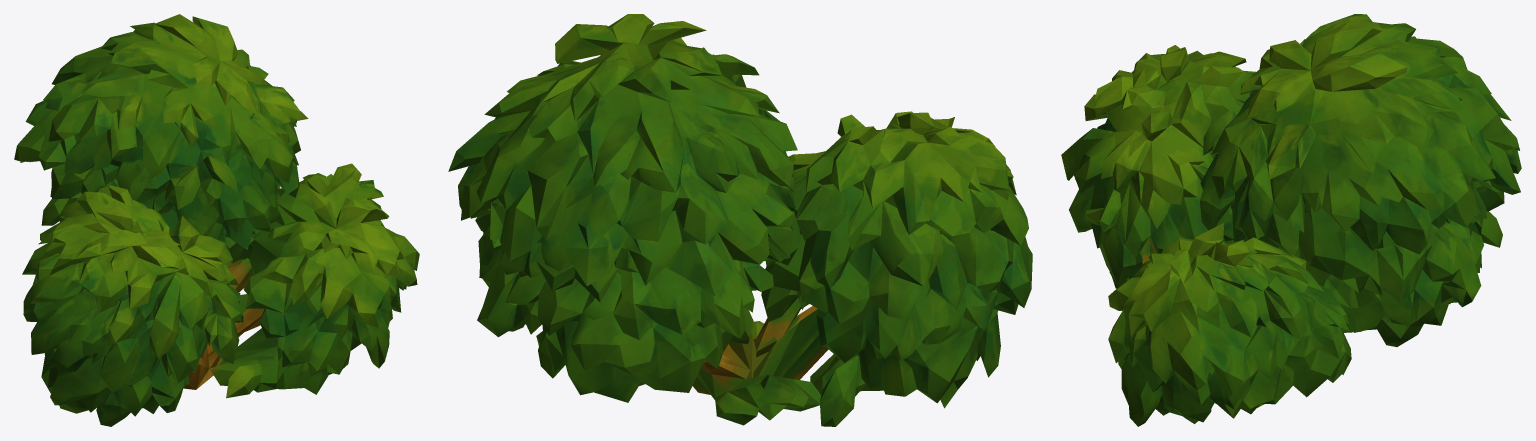
File: woodland-shrub.glb
3 renders of one model, left to right at view 1: azimuth 30°, elevation 25°; view 2: azimuth 150°, elevation 25°; view 3: azimuth 270°, elevation 25°, orthographic. The views are drawn at different scales.
Parts seen in each view (by area): view 1: output_unwrapped; view 2: output_unwrapped; view 3: output_unwrapped.
Boxes of the visible parts, x1=… form: output_unwrapped: x1=14, y1=14, x2=419, y2=426; output_unwrapped: x1=448, y1=14, x2=1032, y2=426; output_unwrapped: x1=1061, y1=14, x2=1521, y2=426.
Bounding box in the file's own units: 1.32 × 1 × 1.16.
1 material, 1 textured.
